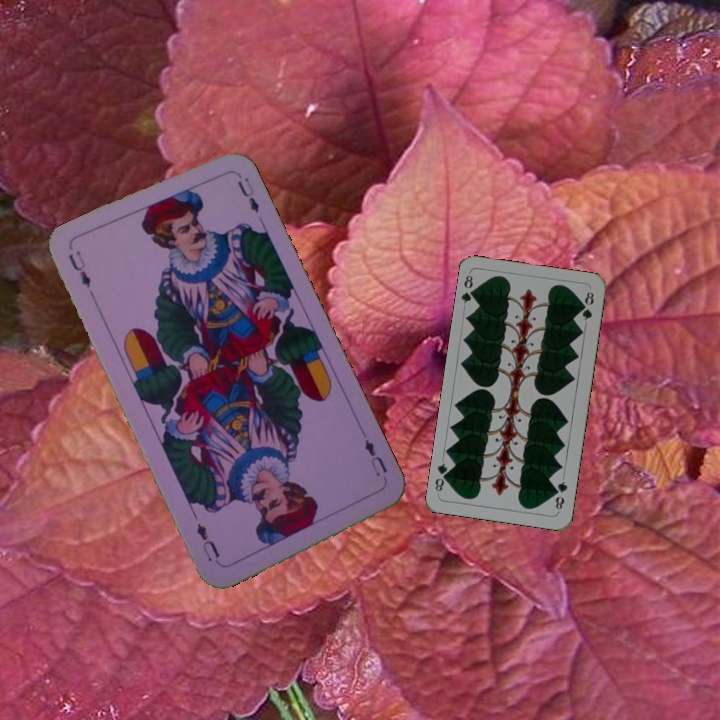EU: (360, 435, 390, 480), (64, 247, 93, 290)
G8: (458, 271, 479, 306), (551, 477, 570, 512)
